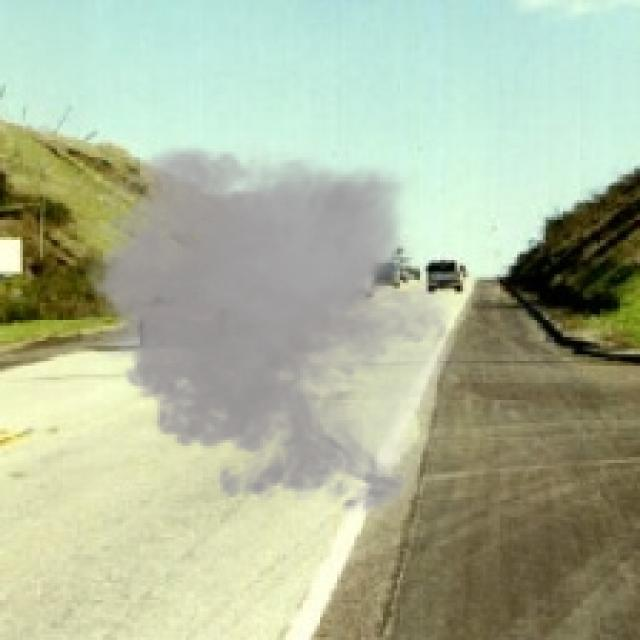Smoke: (71, 131, 472, 526)
